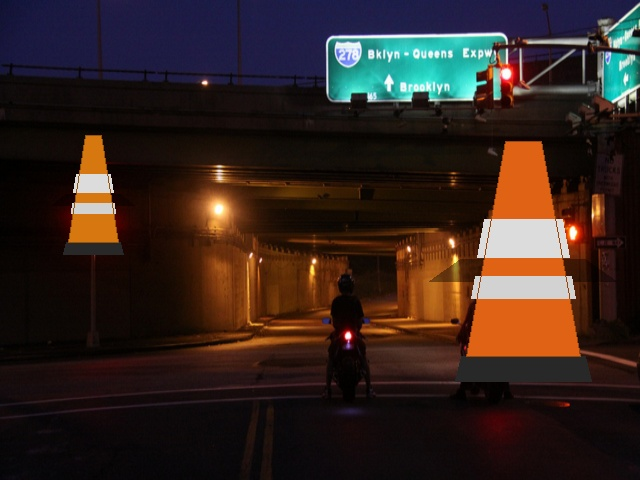traffic-cone: (455, 141, 591, 381), (63, 135, 123, 254)
